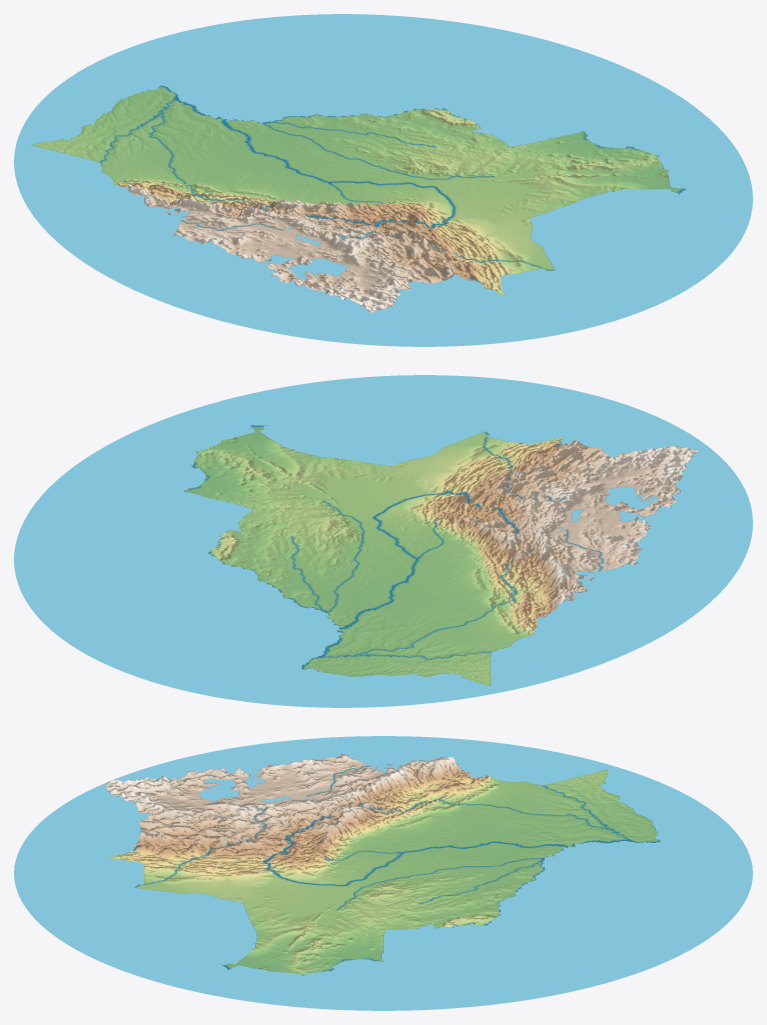
Rendered from BOL-terrain.glb.
3 views of the same model, one above another, from view 1: azimuth 30°, elevation 25°; view 2: azimuth 150°, elevation 25°; view 3: azimuth 270°, elevation 25° (orthographic). The views are drawn at different scales.
Parts seen in each view (by area): view 1: Relevo com hidrografia; view 2: Relevo com hidrografia; view 3: Relevo com hidrografia.
Part boxes in pixels (x1,y1,x2,y2): Relevo com hidrografia: [14, 14, 752, 346]; Relevo com hidrografia: [14, 375, 752, 707]; Relevo com hidrografia: [14, 736, 752, 1010].
Size of the model in its own units: 1.88 by 0.0661 by 2.14.
2 materials, 1 textured.
